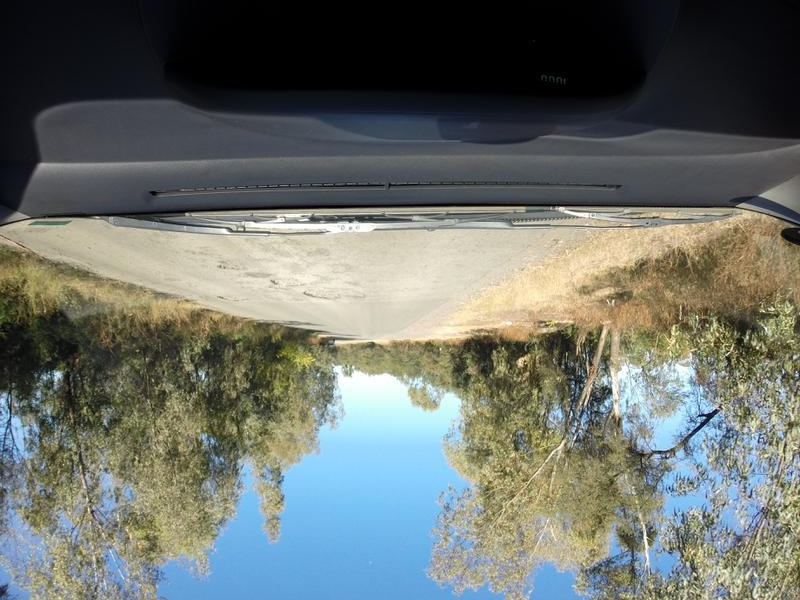pothole: (299, 287, 334, 301), (272, 276, 294, 287), (215, 261, 244, 268), (217, 295, 241, 303)
